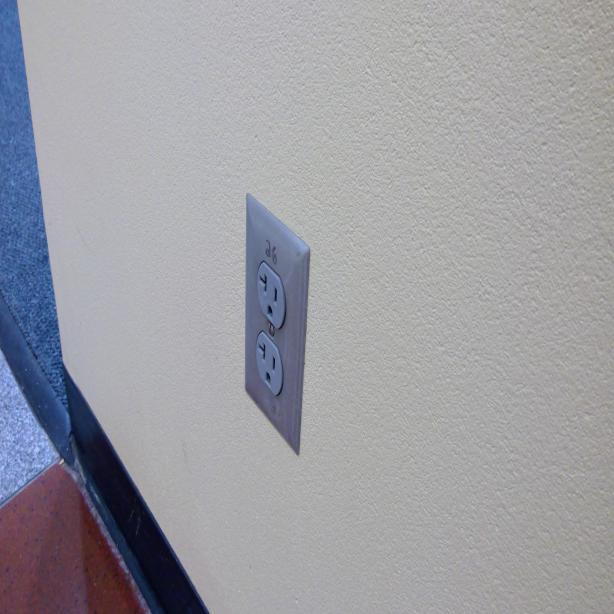typeb: (253, 338, 286, 394), (255, 267, 284, 323)
